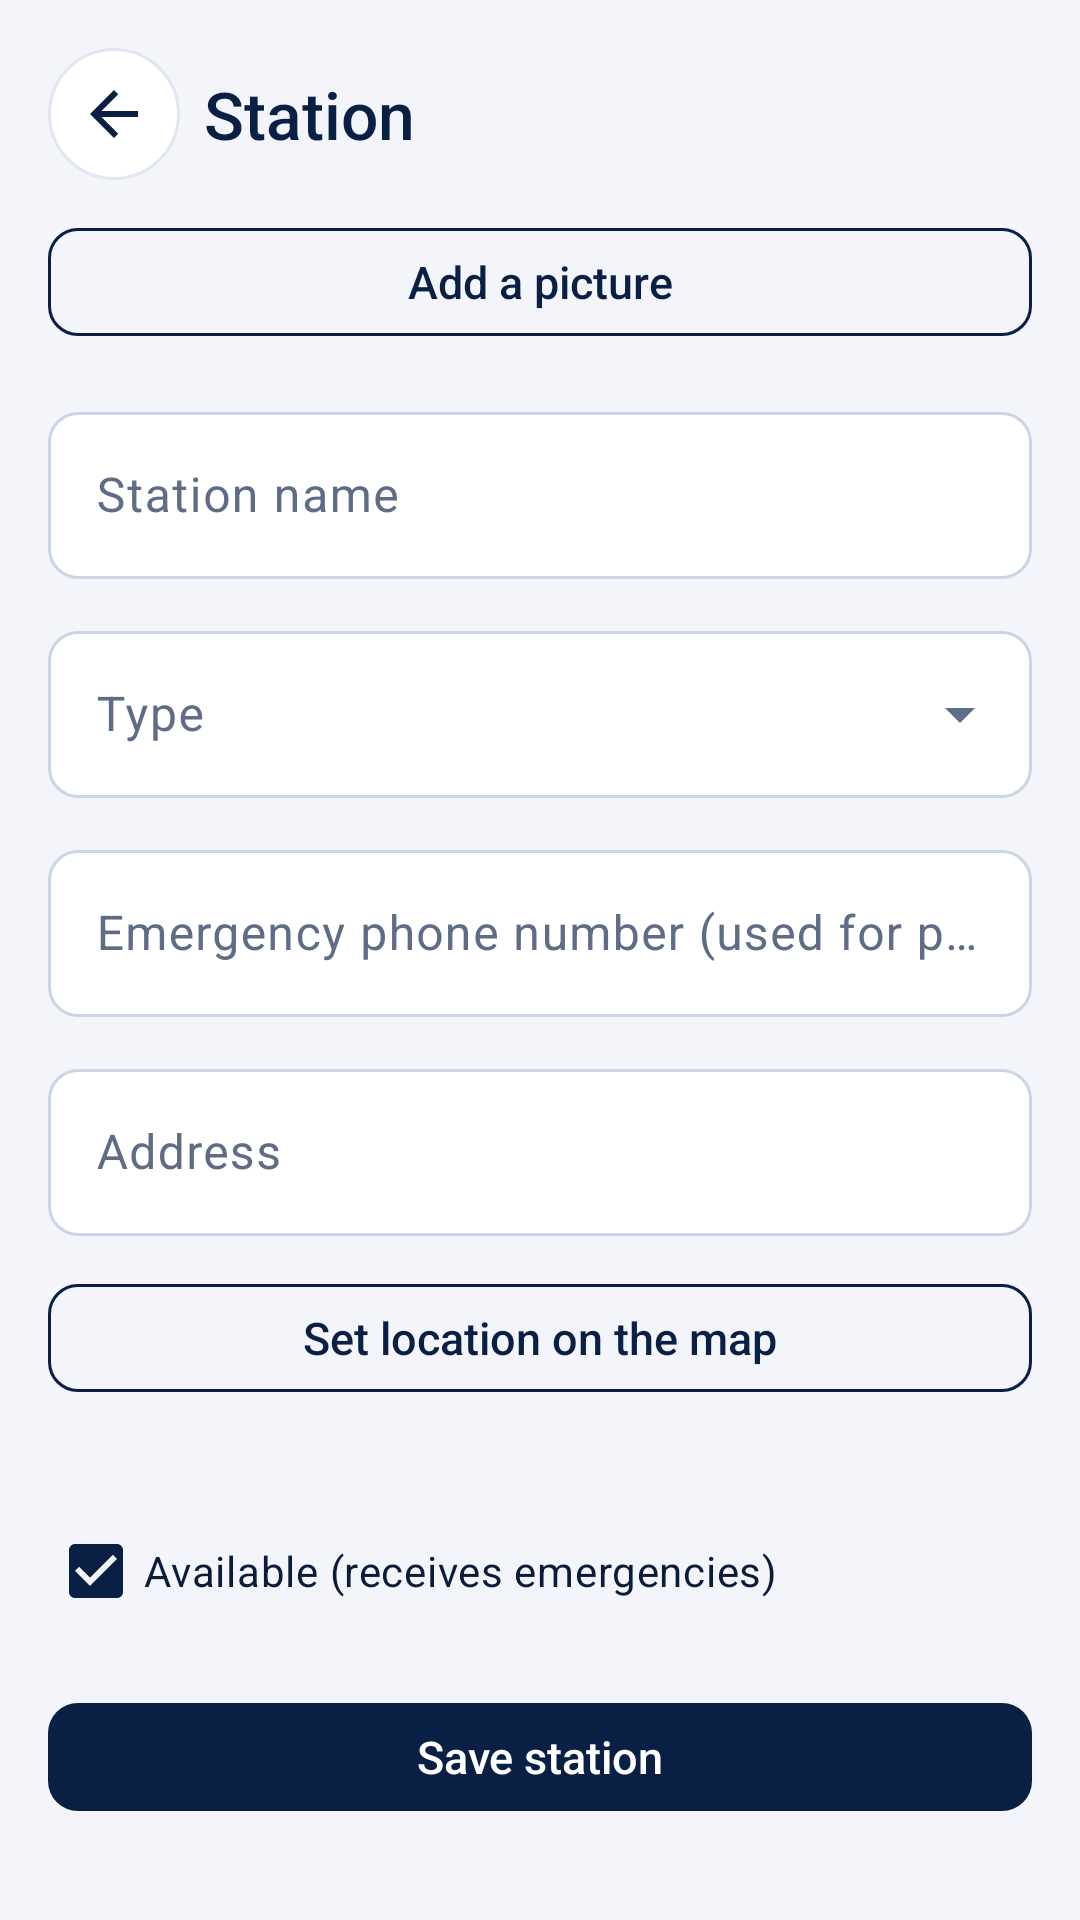

Icon bounding boxes for this 1080px×1920px phone screenshot, format rect(x1, y1, x2, y2):
Back: rect(48, 48, 180, 180)
